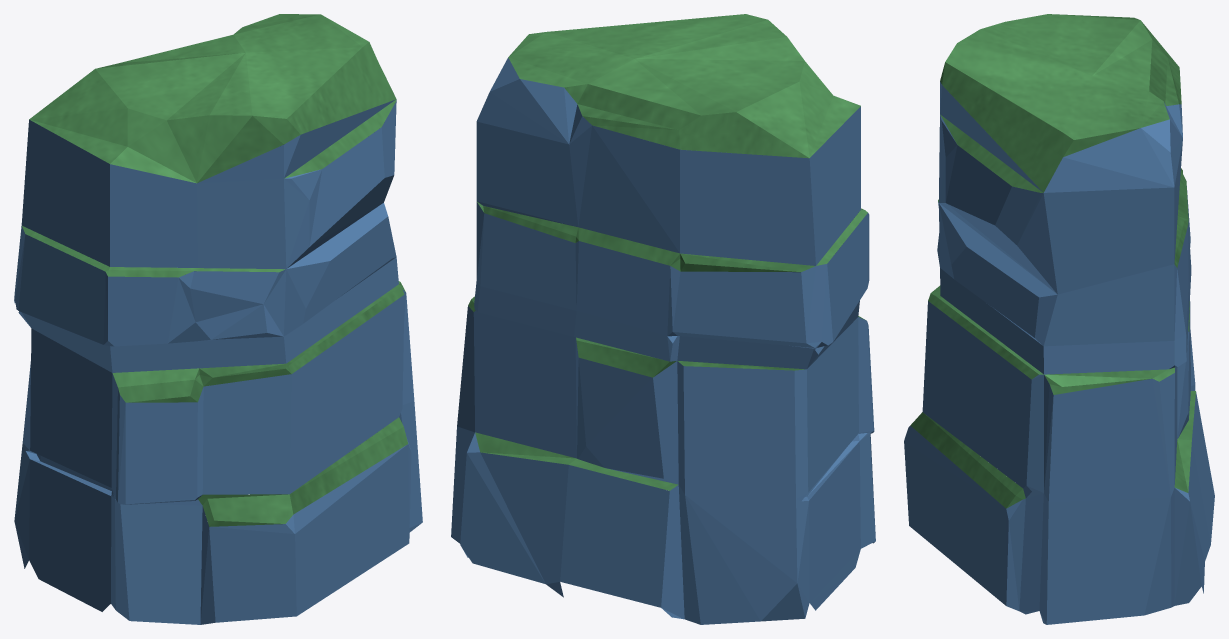
Rendered from grass-stone1.glb.
3 views of the same model, side by side, from view 1: azimuth 30°, elevation 25°; view 2: azimuth 150°, elevation 25°; view 3: azimuth 270°, elevation 25° (orthographic). The views are drawn at different scales.
Visible parts, largest first — view 1: terain2.096; view 2: terain2.096; view 3: terain2.096.
Part boxes in pixels (x1,y1,x2,y2): terain2.096: [14, 14, 422, 624]; terain2.096: [451, 14, 875, 624]; terain2.096: [904, 14, 1214, 624].
Bounding box in the file's own units: 3.07 × 4.05 × 2.33.
Materials: 2 (1 with a texture image).
